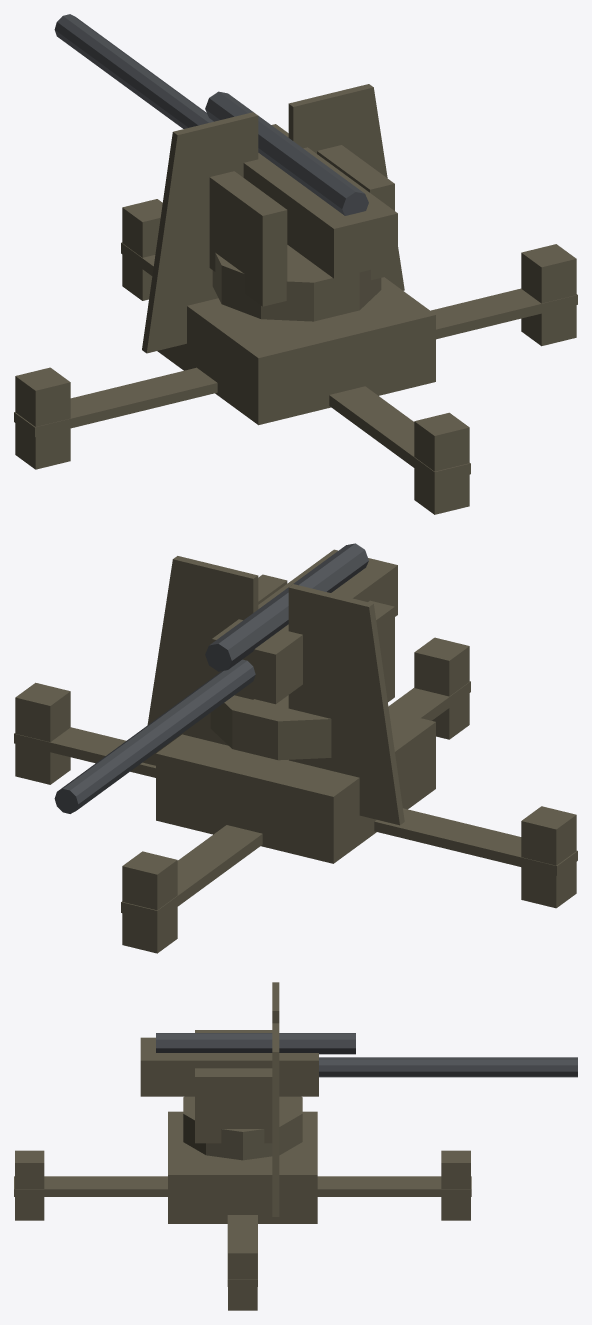
File: flak18.glb
3 renders of one model, top to bottom at view 1: azimuth 30°, elevation 25°; view 2: azimuth 150°, elevation 25°; view 3: azimuth 270°, elevation 25°, orthographic. The views are drawn at different scales.
Parts seen in each view (by area): view 1: F18_Pedestal, F18_Shield_L, F18_Cradle, F18_ArmX, F18_Trunnion_L, F18_Turntable, F18_Shield_R, F18_Barrel, F18_Recuperator, F18_Jack_-24_0, F18_Jack_0_-24, F18_ArmY (+3 smaller); view 2: F18_Pedestal, F18_Shield_L, F18_Shield_R, F18_ArmX, F18_Barrel, F18_Cradle, F18_Turntable, F18_ArmY, F18_Recuperator, F18_Jack_-24_0, F18_Jack_0_24, F18_Jack_24_0 (+3 smaller); view 3: F18_Pedestal, F18_ArmY, F18_Cradle, F18_Barrel, F18_Trunnion_R, F18_Recuperator, F18_Turntable, F18_Jack_24_0, F18_Jack_0_24, F18_Jack_0_-24, F18_Shield_R, F18_ArmX.
Part boxes in pixels (box(x1,y1,x2,y2)): F18_Pedestal: box(157, 277, 435, 425); F18_Shield_L: box(142, 112, 258, 353); F18_Cradle: box(243, 124, 397, 278); F18_ArmX: box(14, 288, 577, 436); F18_Trunnion_L: box(209, 171, 287, 306); F18_Turntable: box(212, 245, 381, 321); F18_Shield_R: box(288, 84, 404, 290); F18_Barrel: box(54, 14, 213, 128); F18_Recuperator: box(205, 91, 368, 215); F18_Jack_-24_0: box(15, 367, 70, 469); F18_Jack_0_-24: box(414, 412, 469, 514); F18_ArmY: box(121, 242, 470, 482); F18_Pedestal: box(156, 710, 435, 863); F18_Shield_L: box(288, 584, 404, 825); F18_Shield_R: box(143, 556, 258, 765); F18_ArmX: box(14, 727, 577, 875); F18_Barrel: box(54, 659, 255, 813); F18_Cradle: box(211, 549, 397, 704); F18_Turntable: box(210, 695, 331, 760); F18_ArmY: box(121, 681, 470, 921); F18_Recuperator: box(205, 543, 368, 671); F18_Jack_-24_0: box(521, 806, 576, 908); F18_Jack_0_24: box(122, 851, 177, 953); F18_Jack_24_0: box(15, 682, 70, 784); F18_Pedestal: box(168, 1111, 317, 1223); F18_ArmY: box(14, 1176, 471, 1196); F18_Cradle: box(140, 1037, 318, 1096); F18_Barrel: box(319, 1057, 577, 1077); F18_Trunnion_R: box(195, 1068, 272, 1143); F18_Recuperator: box(156, 1033, 355, 1054); F18_Turntable: box(183, 1096, 302, 1160); F18_Jack_24_0: box(228, 1240, 257, 1310); F18_Jack_0_24: box(441, 1150, 470, 1220); F18_Jack_0_-24: box(15, 1150, 44, 1220); F18_Shield_R: box(272, 1023, 279, 1216); F18_ArmX: box(227, 1215, 257, 1286).
Bounding box in the file's own units: 5.26 × 2.5 × 6.48.
